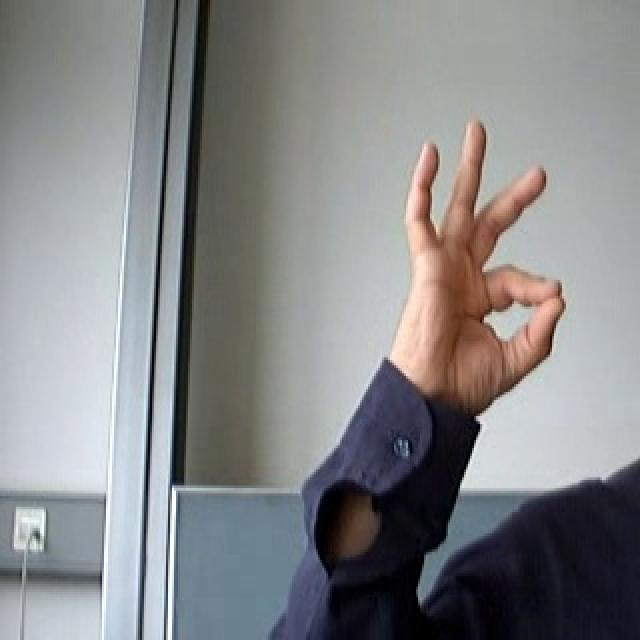F: (385, 110, 575, 411)
